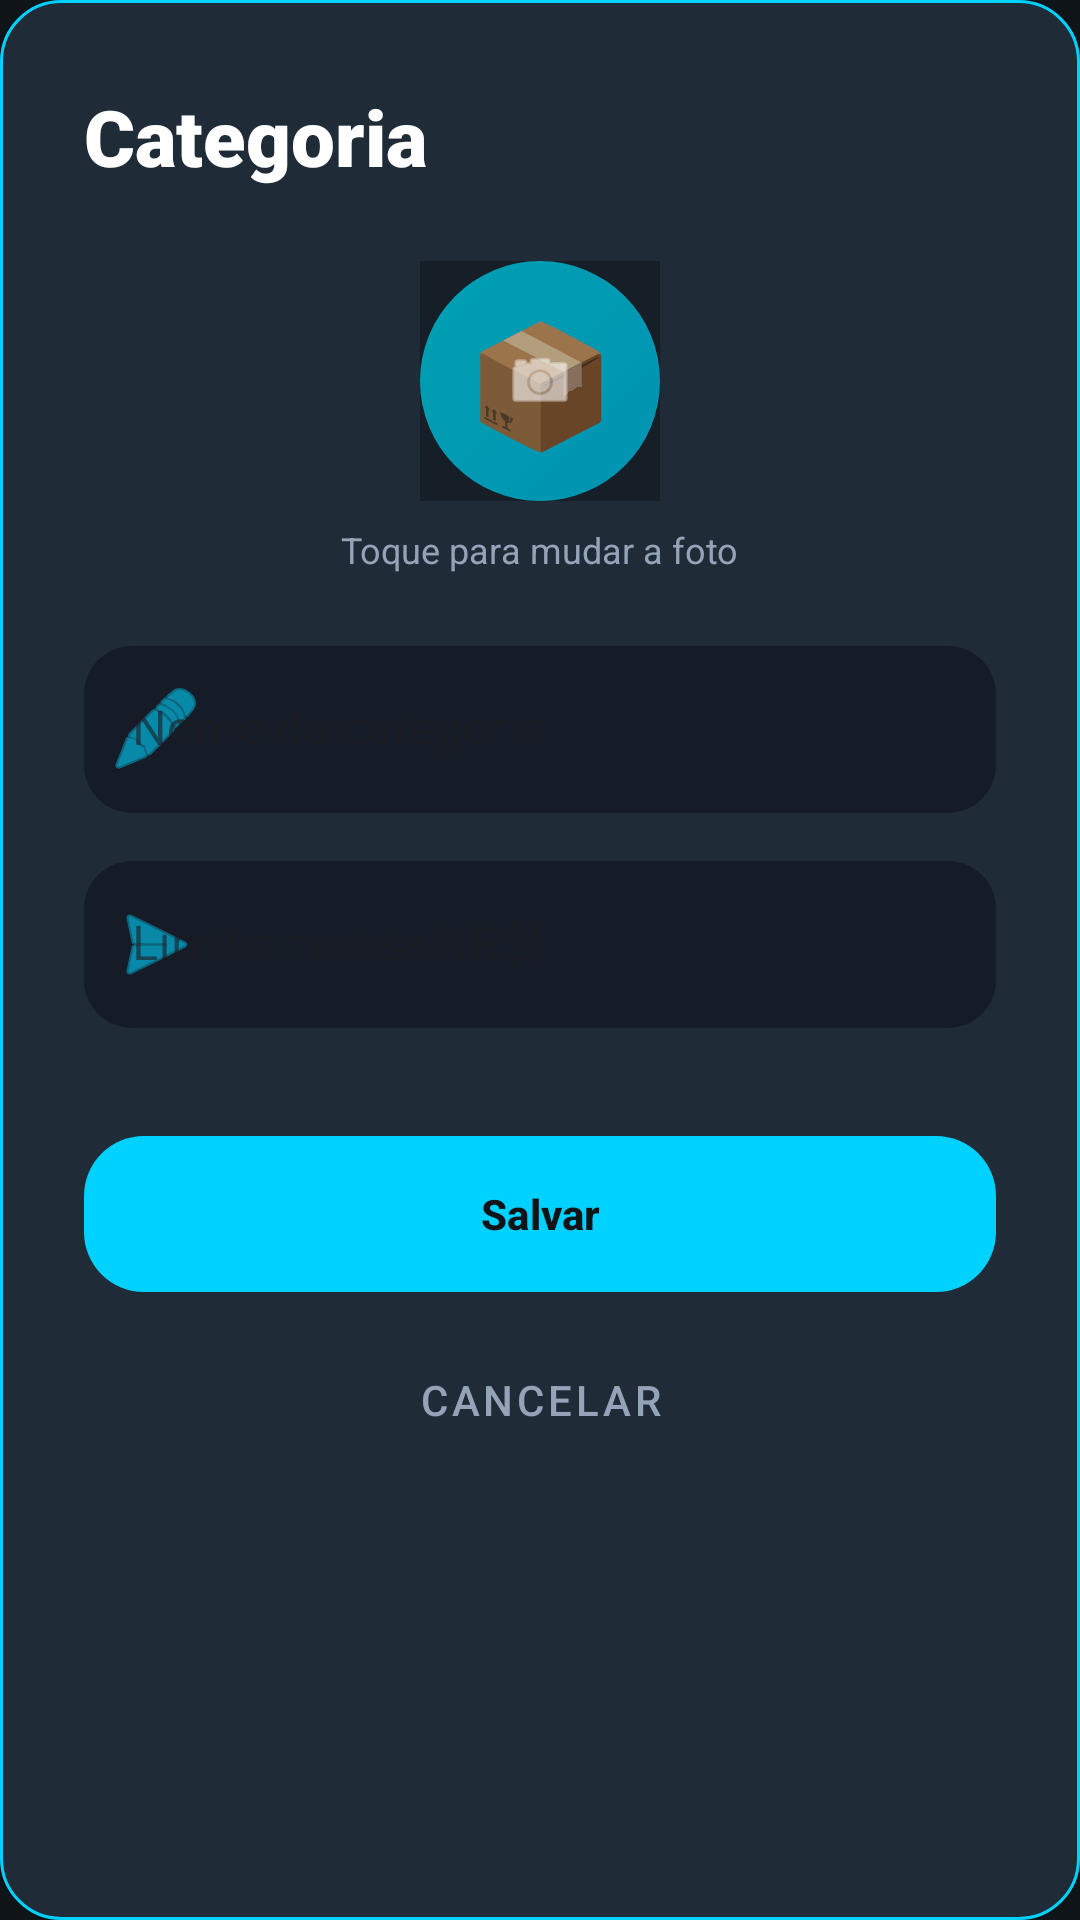

Point at icon controls on the screen. Image size 1080×1920, points as [x,y].
camera: [540,381]
